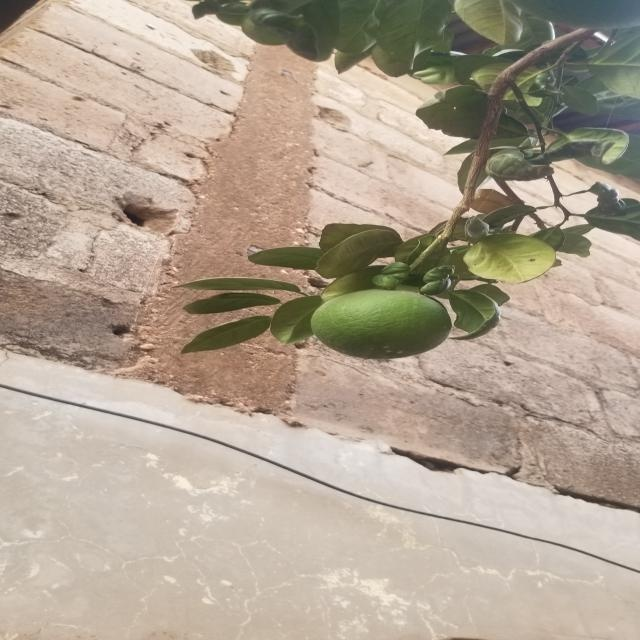agrume: (291, 287, 480, 370)
